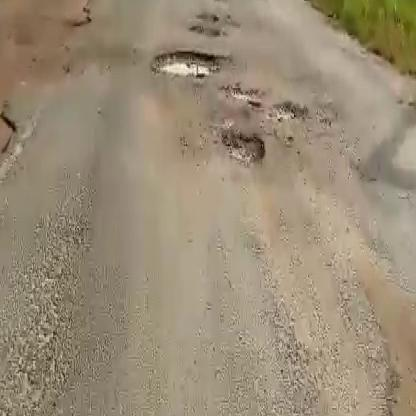pothole: (150, 49, 226, 80), (220, 130, 269, 168), (266, 100, 309, 131), (224, 82, 264, 112)
